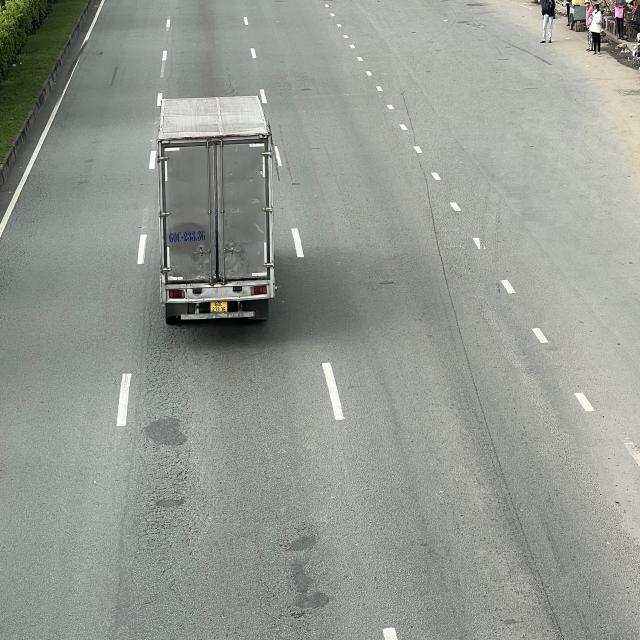truck: (157, 94, 272, 323)
